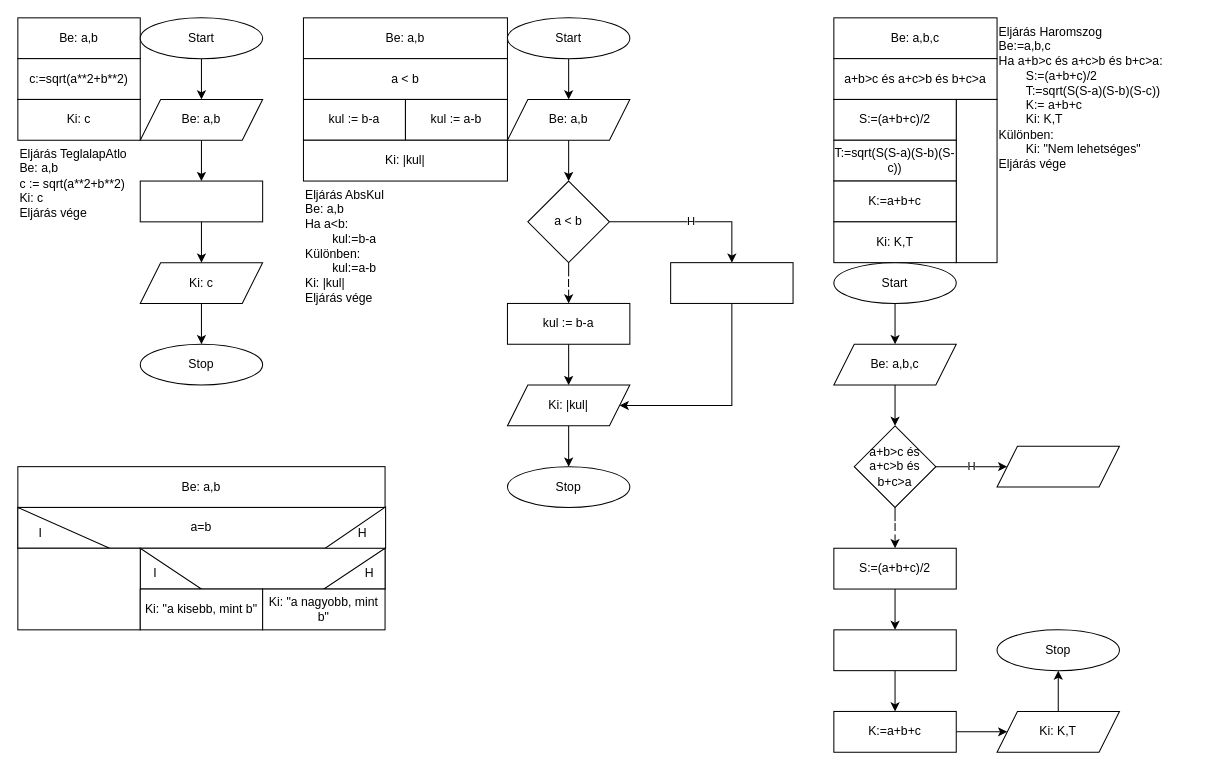
The diagram is 1219 pixels wide and 770 high, and some of its shapes have lost their labels. The box of each missing label's shape, as (x1, y1, x2, y2) in pixels:
a<b: (139, 547, 385, 589)
c := sqrt(a**2+b**2): (139, 180, 263, 222)
Ki: "Egyenlő": (17, 547, 140, 630)
Ki: "Nem lehet-séges": (955, 98, 997, 263)
Ki: "Nem lehetséges": (996, 445, 1119, 487)
kul:=a-b: (670, 262, 793, 303)
T:= sqrt(S(S-a)(S-b)(S-c) ): (833, 629, 956, 671)
